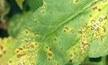Tomato Septoria leaf spot: (1, 0, 108, 65)
